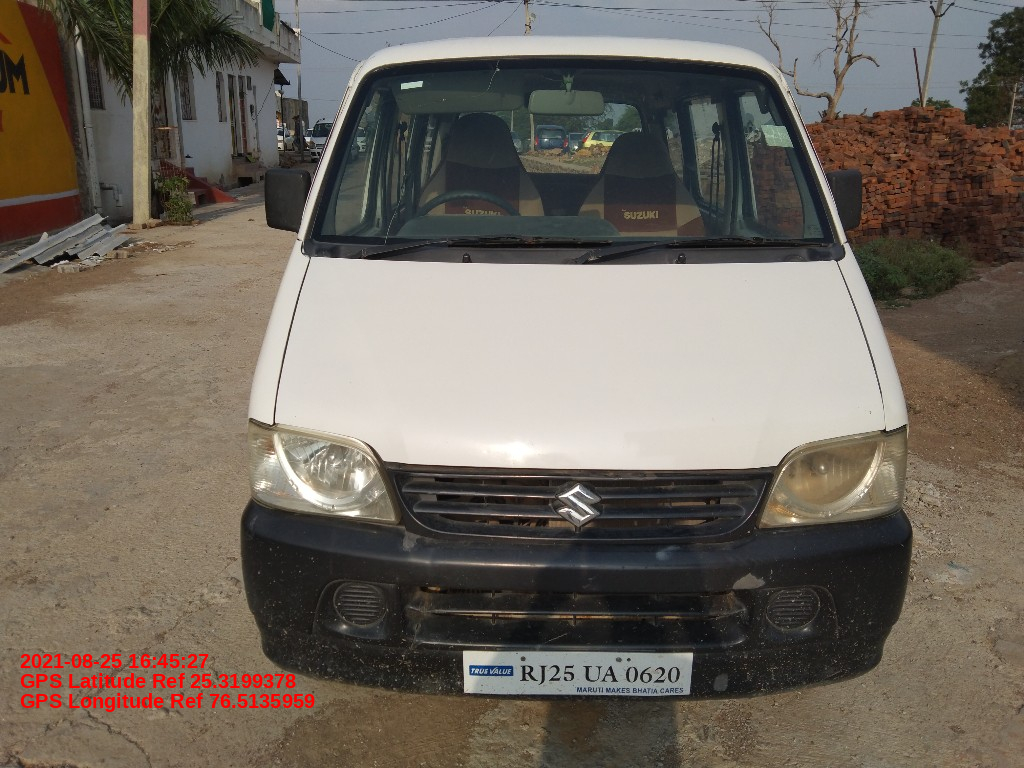Cracked: (404, 621, 430, 653)
Scratched: (725, 572, 771, 594), (650, 543, 688, 565), (396, 530, 427, 556), (711, 666, 735, 696), (244, 514, 265, 545)
